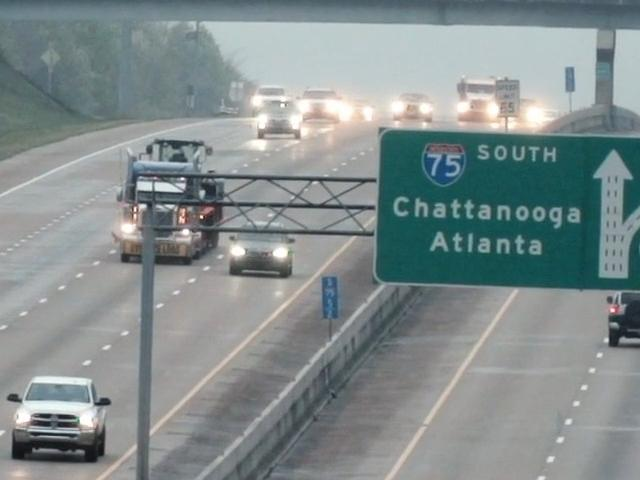car: (5, 375, 115, 468), (227, 218, 293, 283), (588, 292, 640, 348), (307, 87, 347, 131), (259, 101, 303, 139), (386, 94, 433, 121)
truck: (122, 138, 218, 267), (467, 73, 509, 116)
